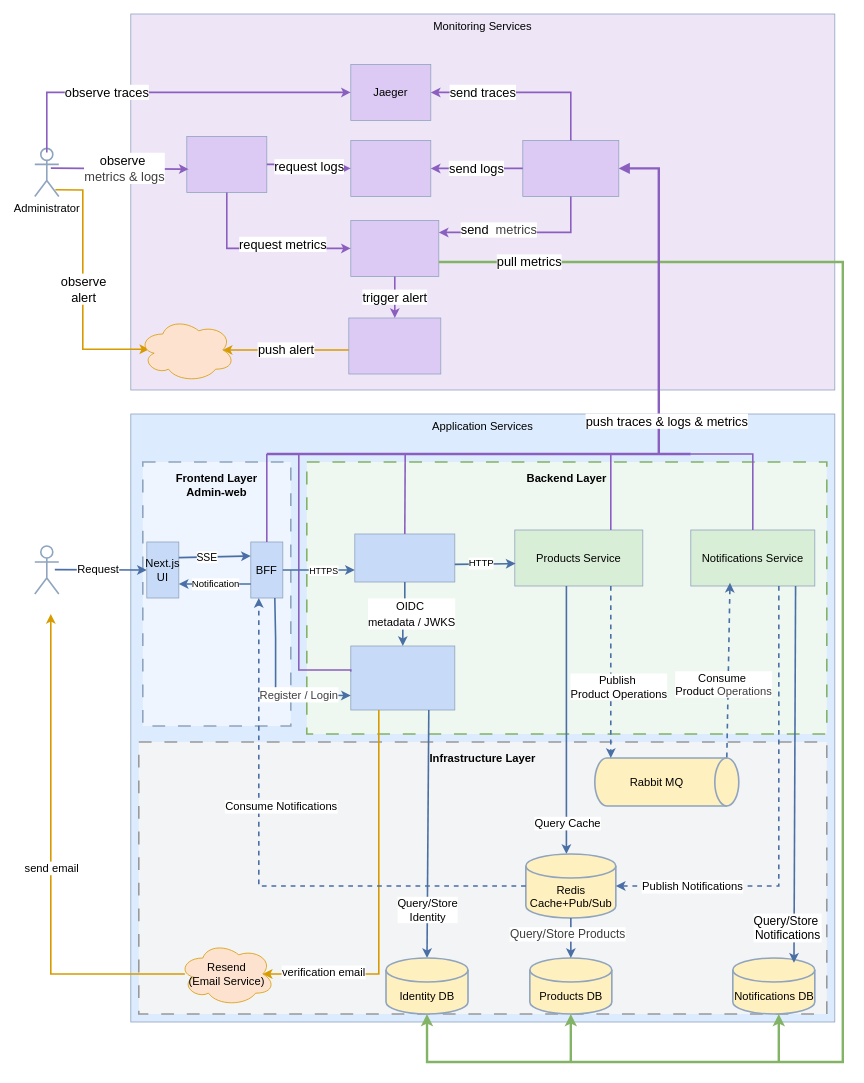
Some shapes in this 864 by 1083 pixel diagram are drawn without their labels. Each missing label, with the centre of its shape:
"Alertmanager" belongs at point 394,345.
"API Gateway (Ocelot)" belongs at point 404,557.
"Grafana" belongs at point 226,164.
"IdentityServer (OIDC / OAuth 2.0)" belongs at point 402,677.
"Loki" belongs at point 390,168.
"OTEL Collector" belongs at point 570,168.
"Prometheus" belongs at point 394,248.
"Slack" belongs at point 186,349.
"User" belongs at point 46,569.
